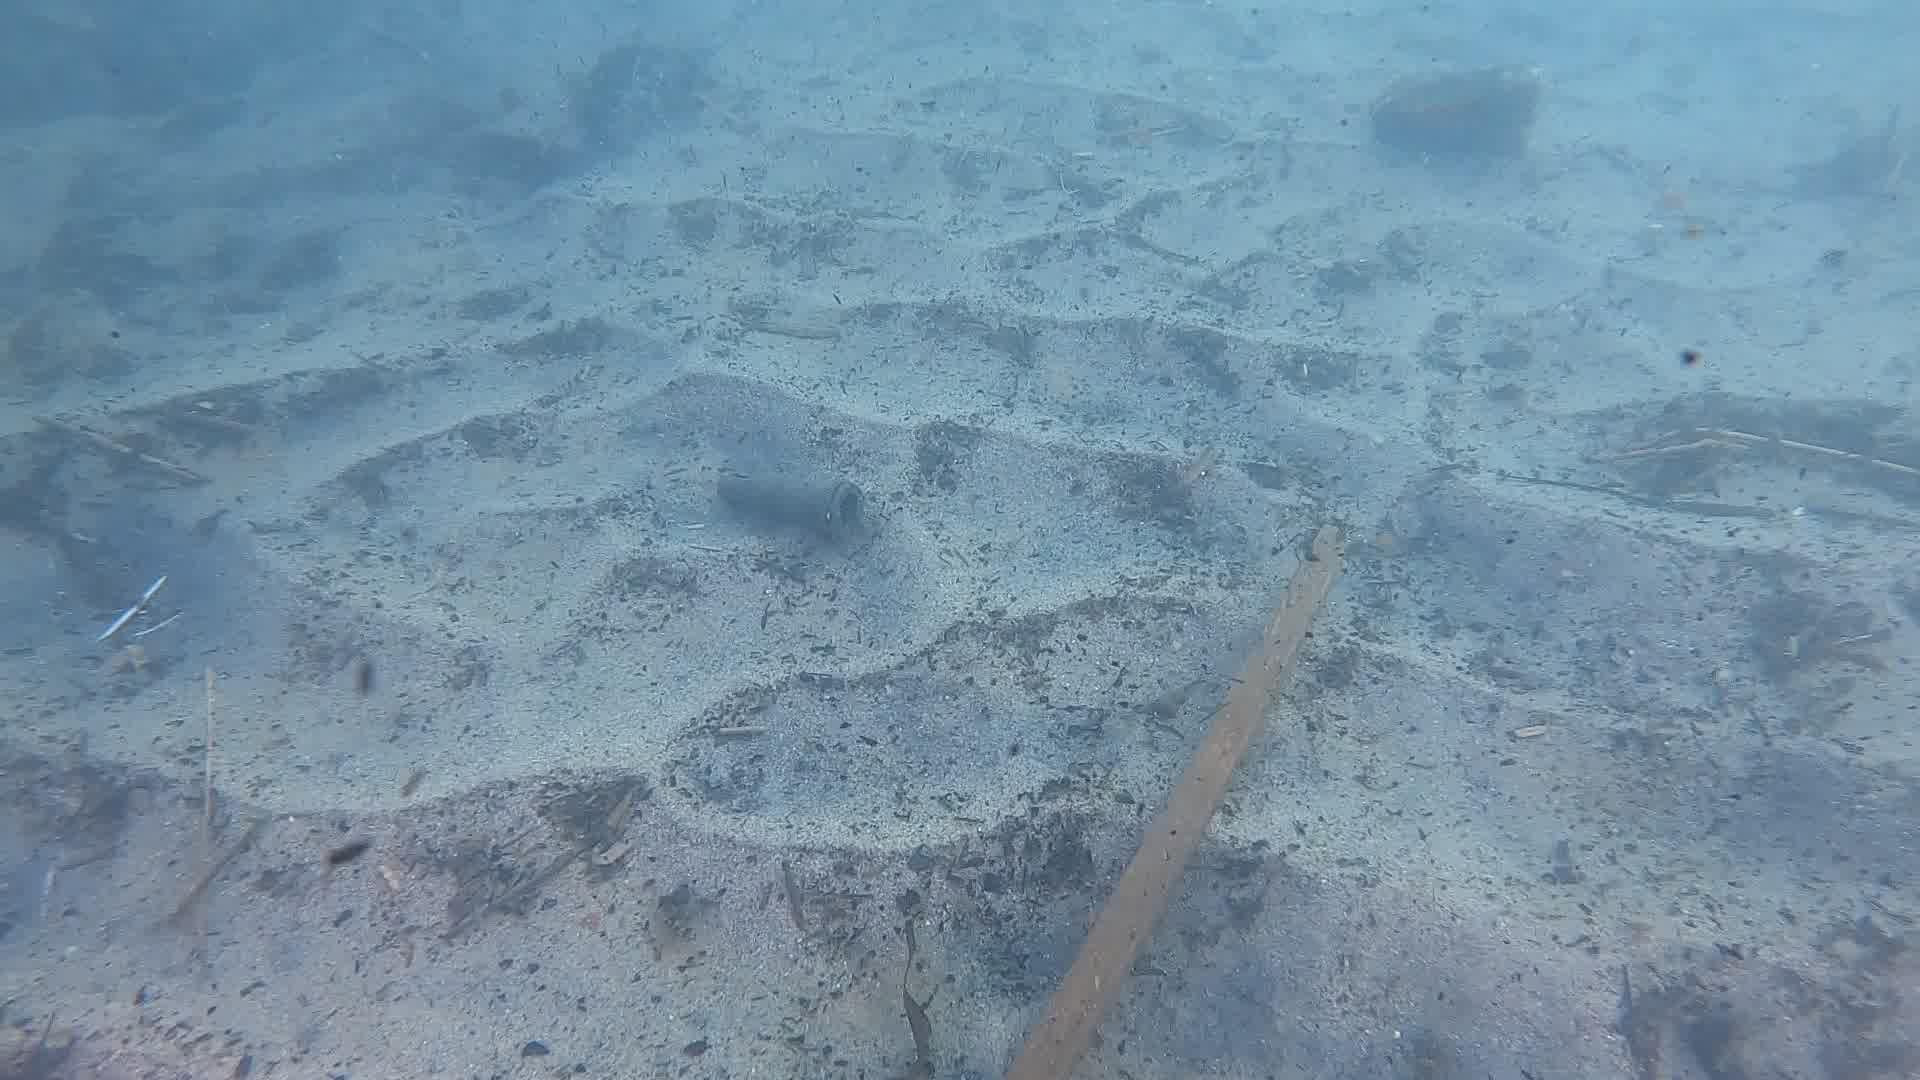wood: (992, 522, 1346, 1080)
